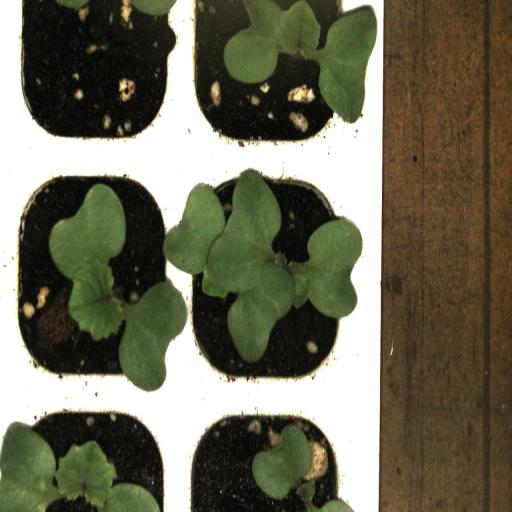Folha: (252, 424, 352, 512)
Germinacao: (178, 154, 370, 393), (4, 147, 182, 398), (179, 0, 363, 155), (0, 392, 180, 512)
